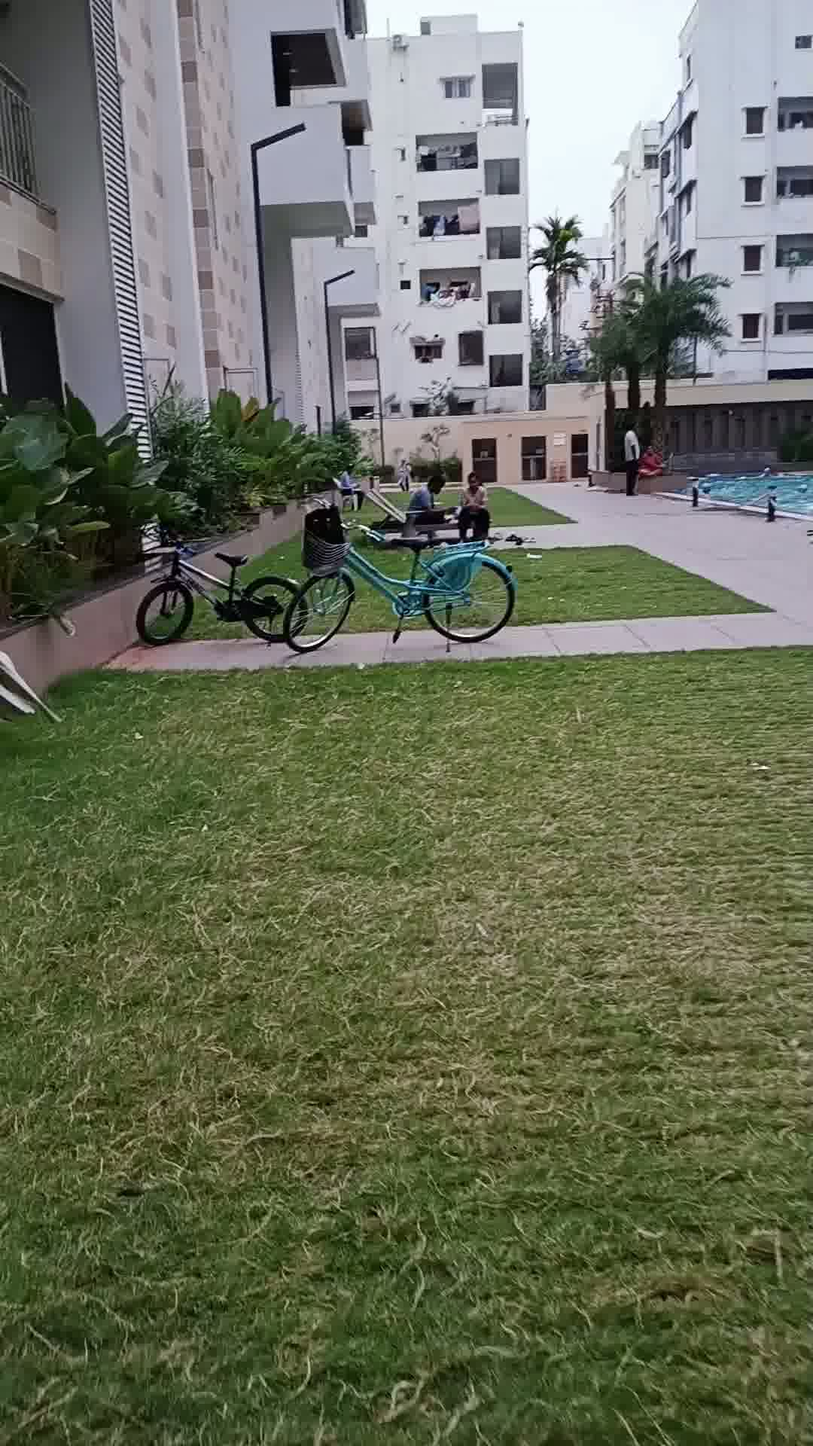bicycle: (282, 467, 532, 677), (128, 518, 302, 683)
person: (402, 457, 449, 542), (614, 412, 646, 526), (454, 457, 493, 550), (630, 433, 665, 484)
tree: (622, 256, 704, 477), (593, 274, 655, 469), (526, 205, 582, 379)
